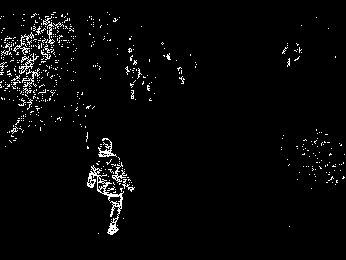person: (85, 135, 140, 243)
